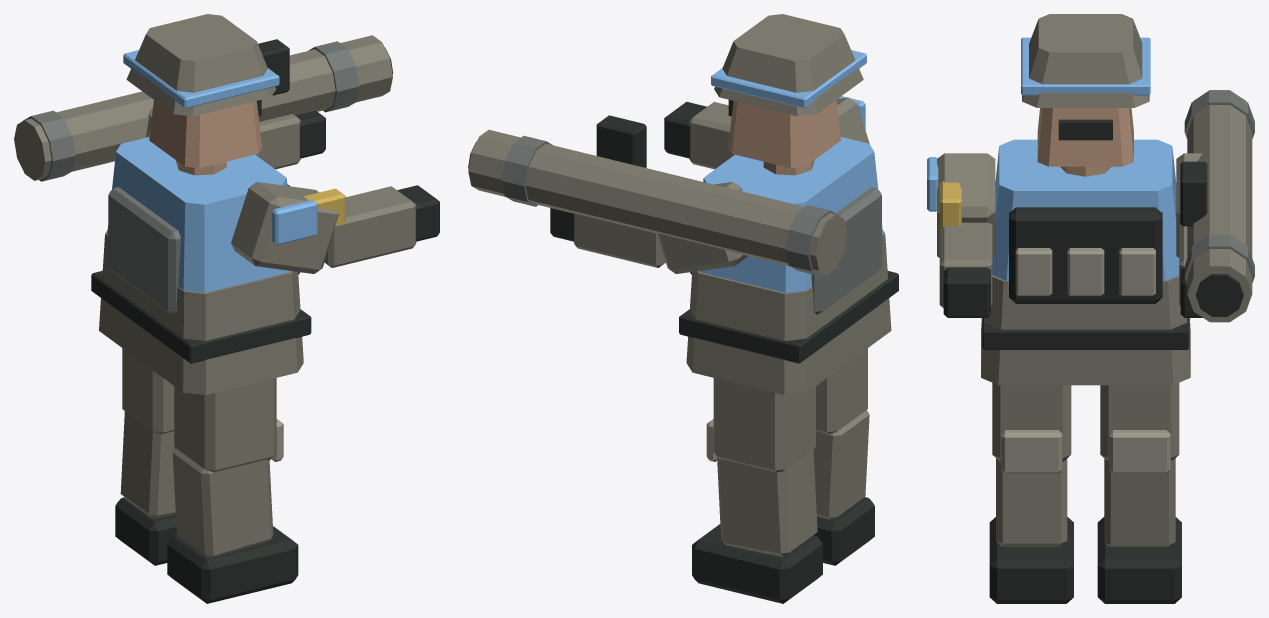
The model's file is rocket_squad.glb.
3 views of the same model, side by side, from view 1: azimuth 30°, elevation 25°; view 2: azimuth 150°, elevation 25°; view 3: azimuth 270°, elevation 25° (orthographic). The views are drawn at different scales.
Visible parts, largest first — view 1: rocket_squad; view 2: rocket_squad; view 3: rocket_squad.
Part boxes in pixels (box(x1,y1,x2,y2)): rocket_squad: box(14, 14, 439, 603); rocket_squad: box(468, 14, 898, 603); rocket_squad: box(927, 14, 1254, 603).
Bounding box in the file's own units: 0.977 × 1.39 × 0.758.
